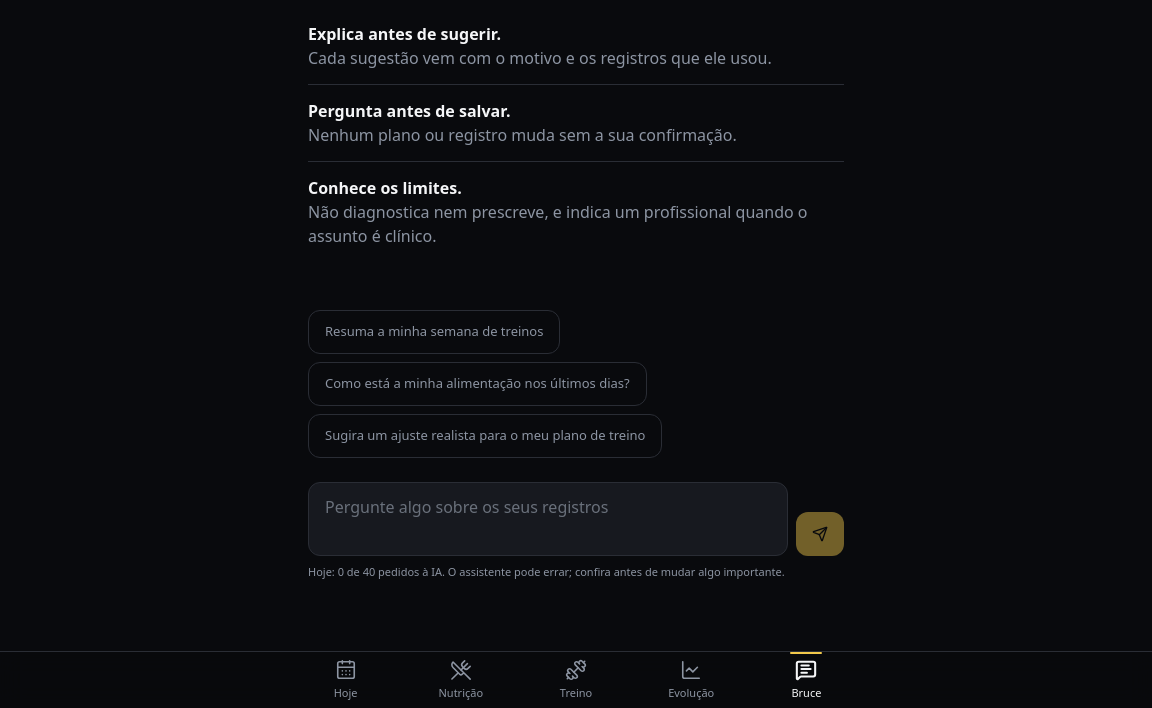
it: Bruce AI › mostra a resposta e só salva a proposta depois de Aceitar
(page scrolled)
Type "Como foi minha semana?" into the text box named "Mensagem para o Bruce". click: (548,519)
box: [308, 482, 788, 556]
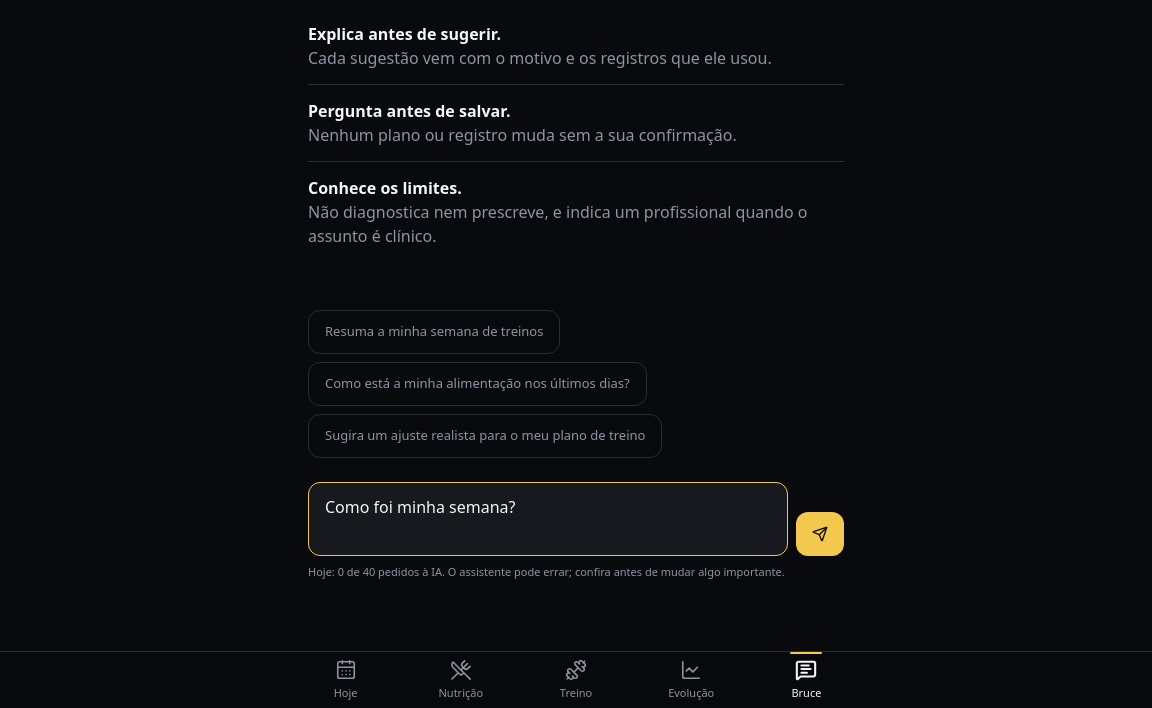
Click the button named "Enviar". click: (820,534)
box: [796, 512, 844, 556]
(page scrolled)
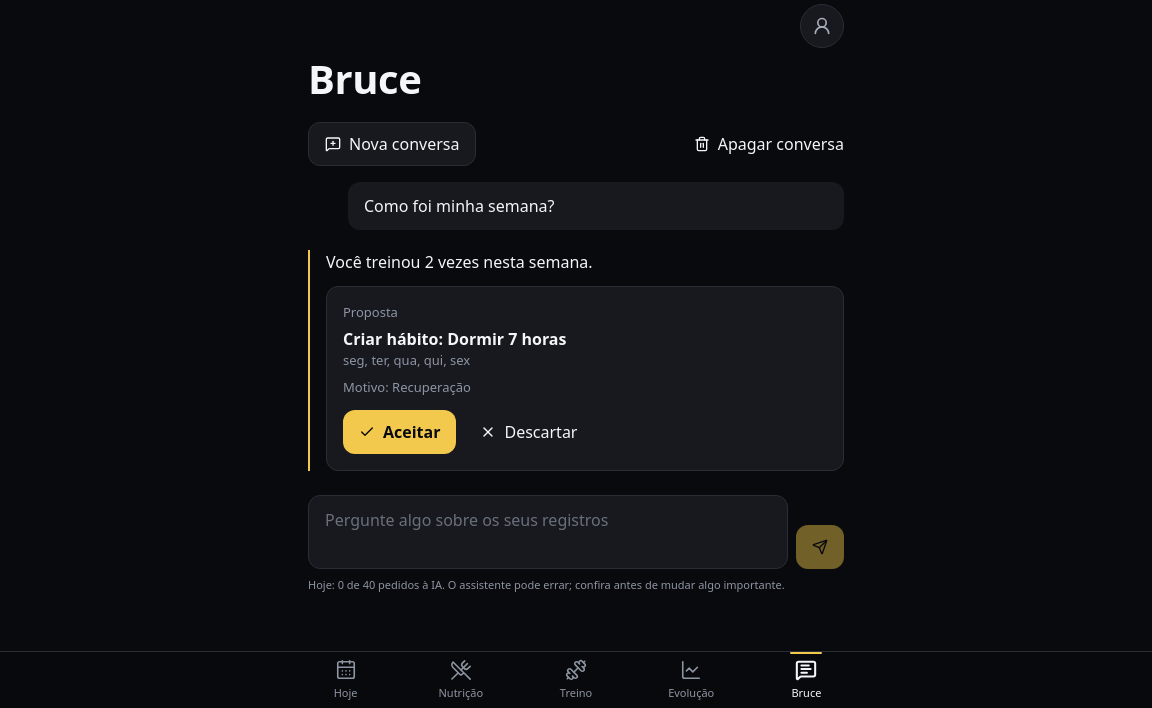
expect the text "Você treinou 2 vezes nesta semana." is shown: met, box [326, 251, 593, 273]
expect the text "Criar hábito: Dormir 7 horas" is shown: met, box [343, 328, 566, 350]
Click the button "Aceitar". click: (400,432)
box: [343, 410, 456, 454]
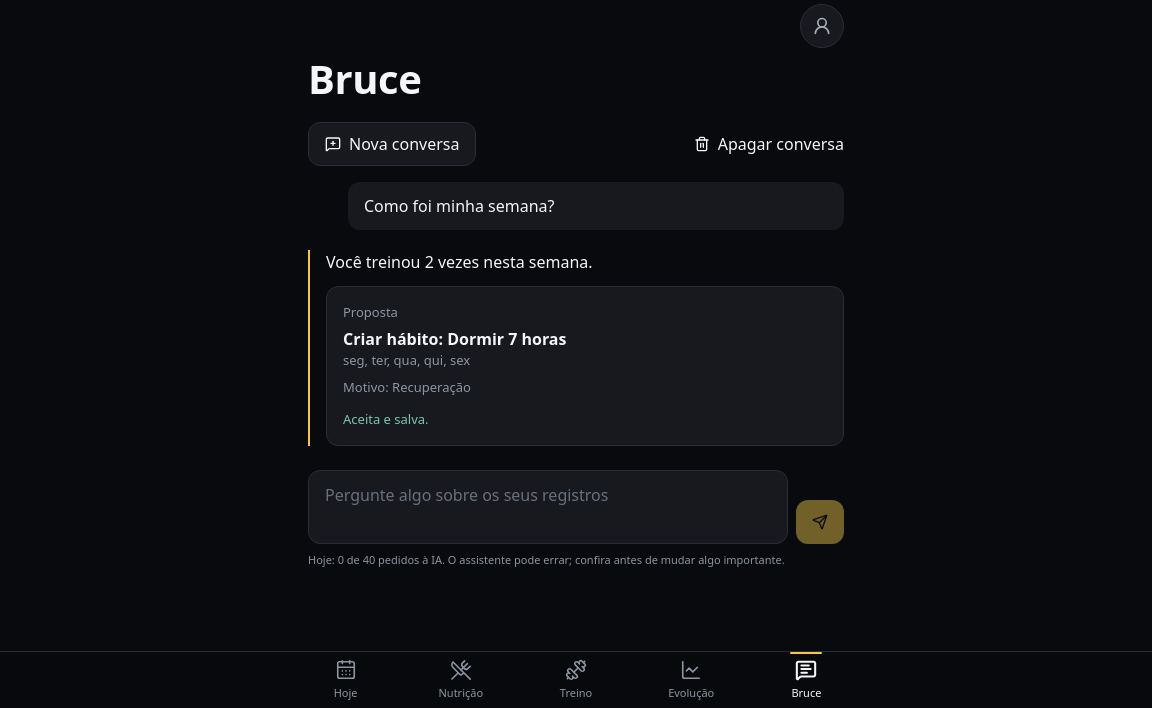
expect the text "Aceita e salva." is shown: met, box [343, 410, 429, 428]
